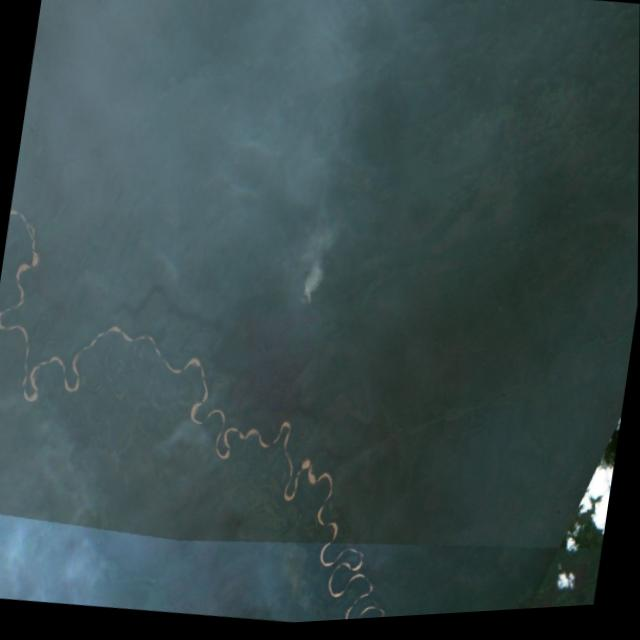fire: (293, 286, 320, 324)
